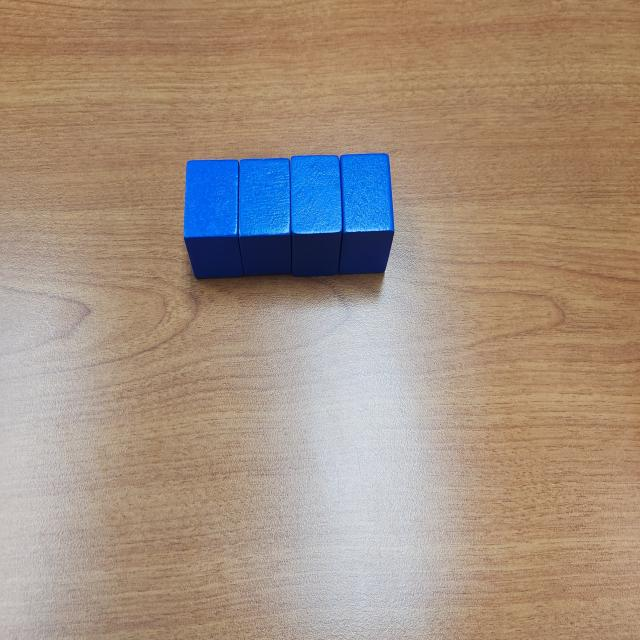blue: (184, 159, 243, 280), (339, 152, 395, 276), (236, 156, 292, 278), (290, 154, 344, 278)
